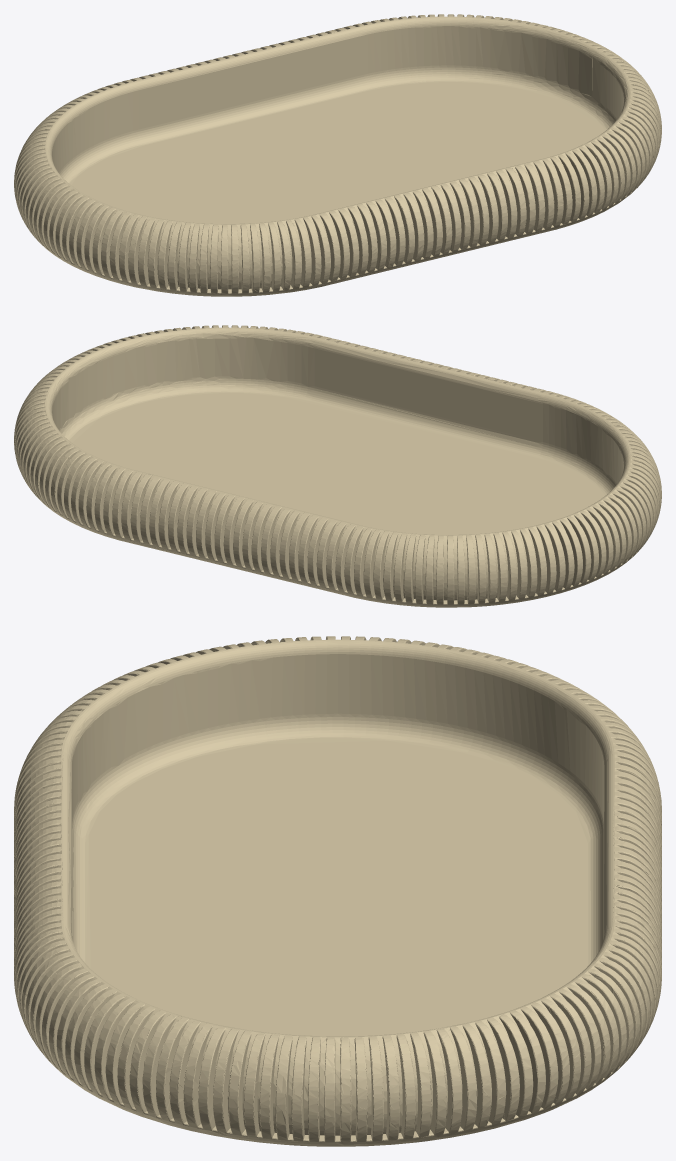
Rendered from bandeja-chica.glb.
The picture shows the model from 3 angles, top to bottom: view 1: azimuth 30°, elevation 25°; view 2: azimuth 150°, elevation 25°; view 3: azimuth 270°, elevation 25°; orthographic projection. The views are drawn at different scales.
Parts seen in each view (by area): view 1: color_1; view 2: color_1; view 3: color_1.
Part boxes in pixels (x1,y1,x2,y2): color_1: [14, 14, 661, 296]; color_1: [14, 325, 661, 607]; color_1: [14, 636, 661, 1146].
Size of the model in its own units: 0.155 by 0.016 by 0.097.
